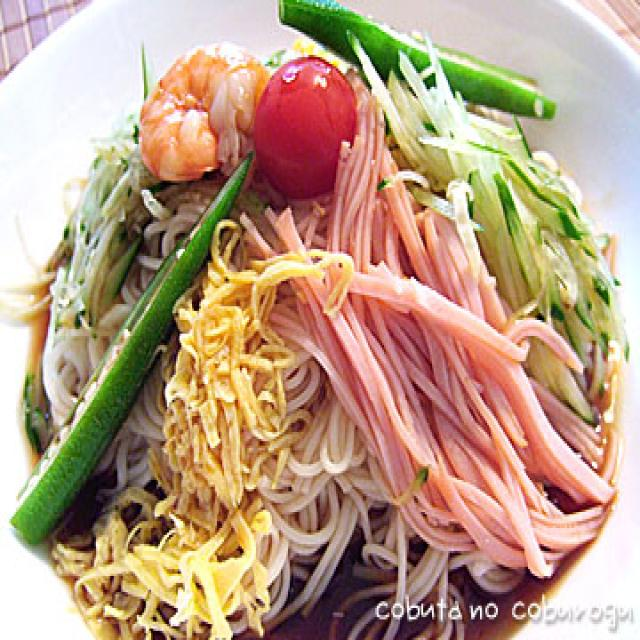面条主食: (0, 0, 640, 590)
